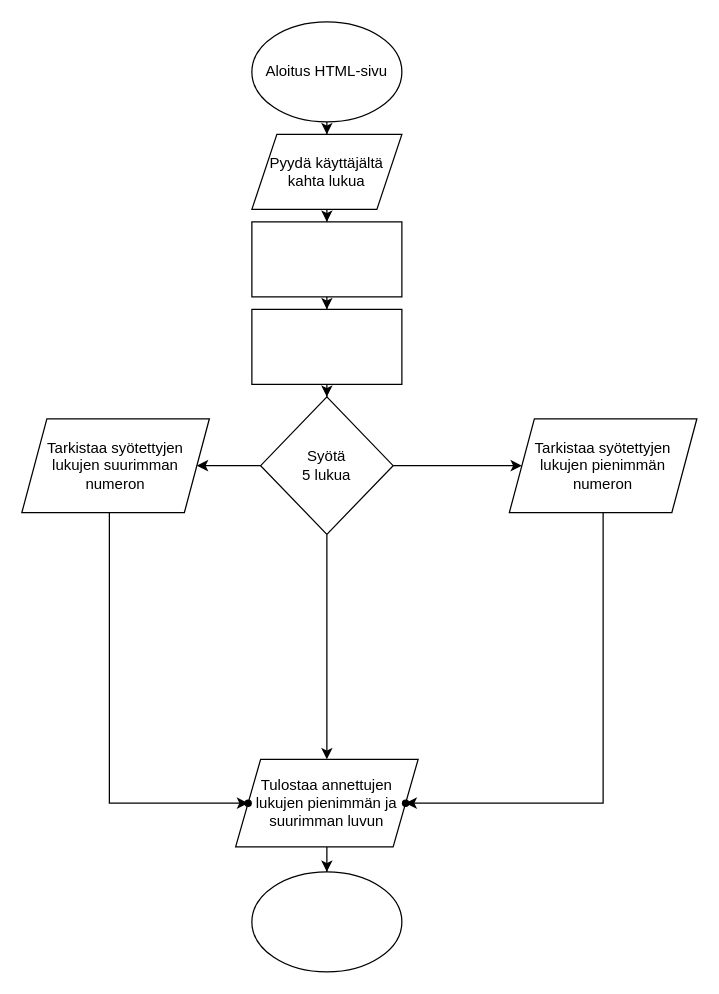
Some shapes in this 719 by 994 pixel diagram are drawn without their labels. Here are the shapes that lost their labels. From the top down, the centre of each, then its label:
pixel 326 259: Luo muuttuja
pixel 326 346: Lue muuttujaan käyttäjän valinta
pixel 326 921: The End
